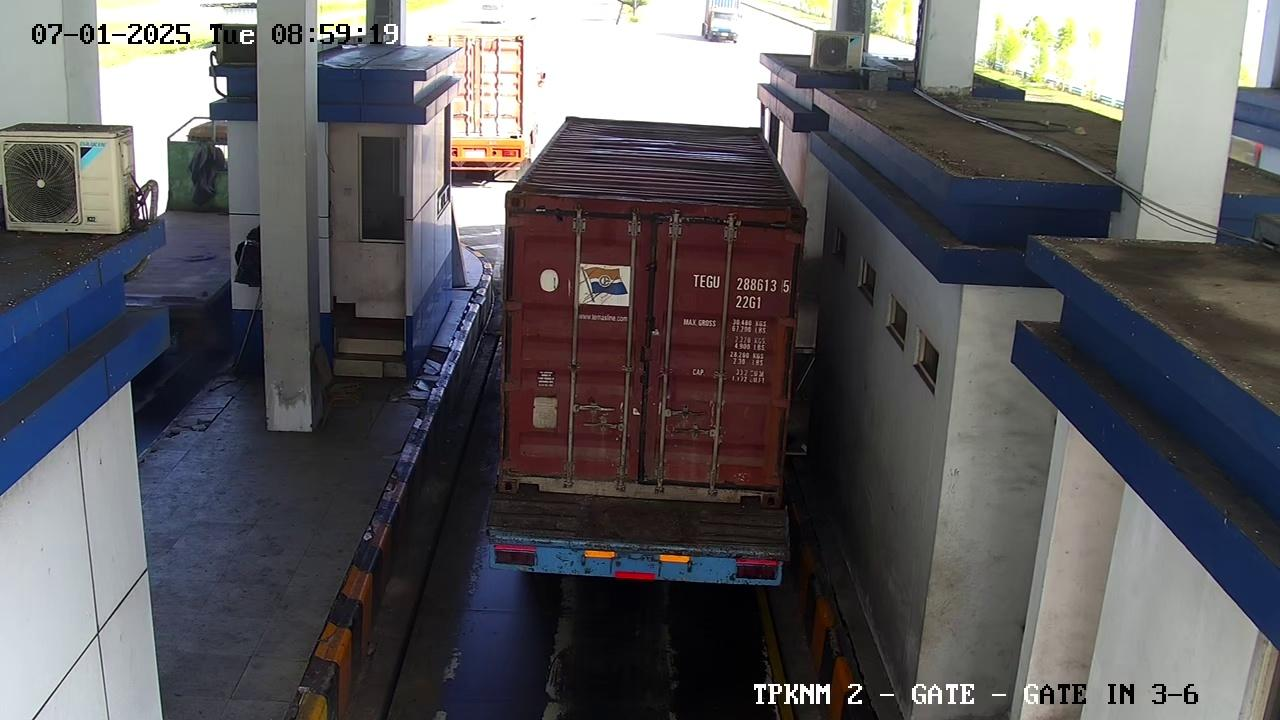Container_ID: (689, 270, 801, 296)
